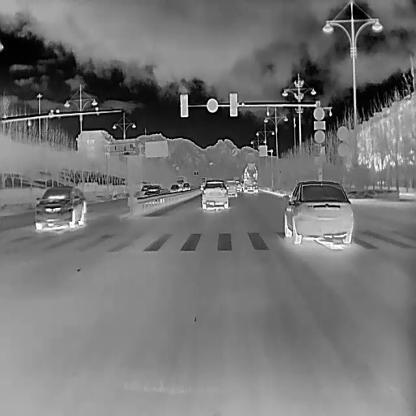car: (283, 180, 354, 244), (34, 184, 86, 231), (199, 178, 229, 210), (242, 163, 258, 194), (143, 186, 163, 203), (225, 180, 236, 197), (176, 176, 188, 188), (169, 183, 180, 193), (233, 180, 241, 191), (182, 183, 190, 190)
